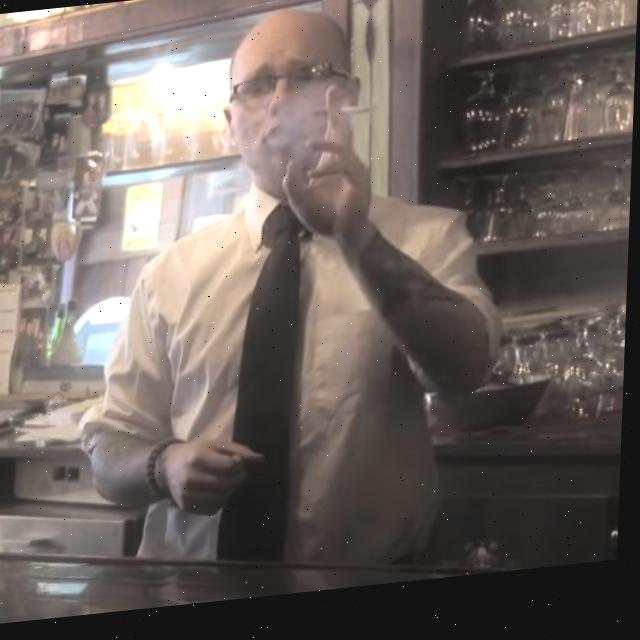cigarette: (312, 112, 377, 125)
